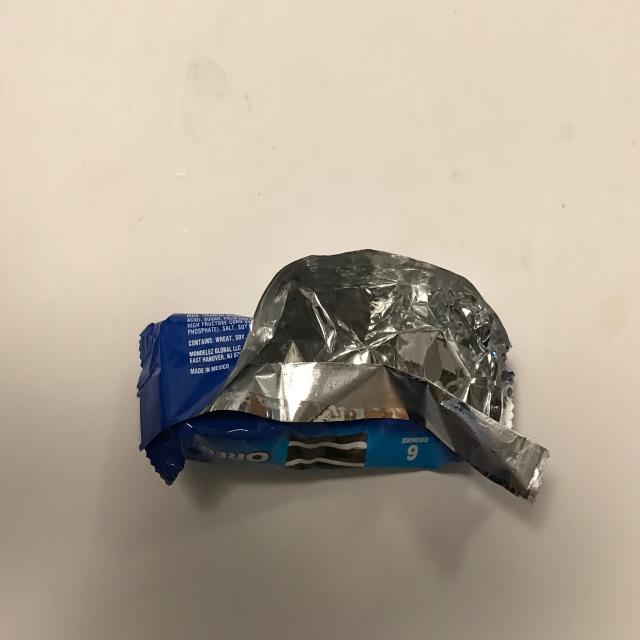trash: (136, 248, 550, 505)
